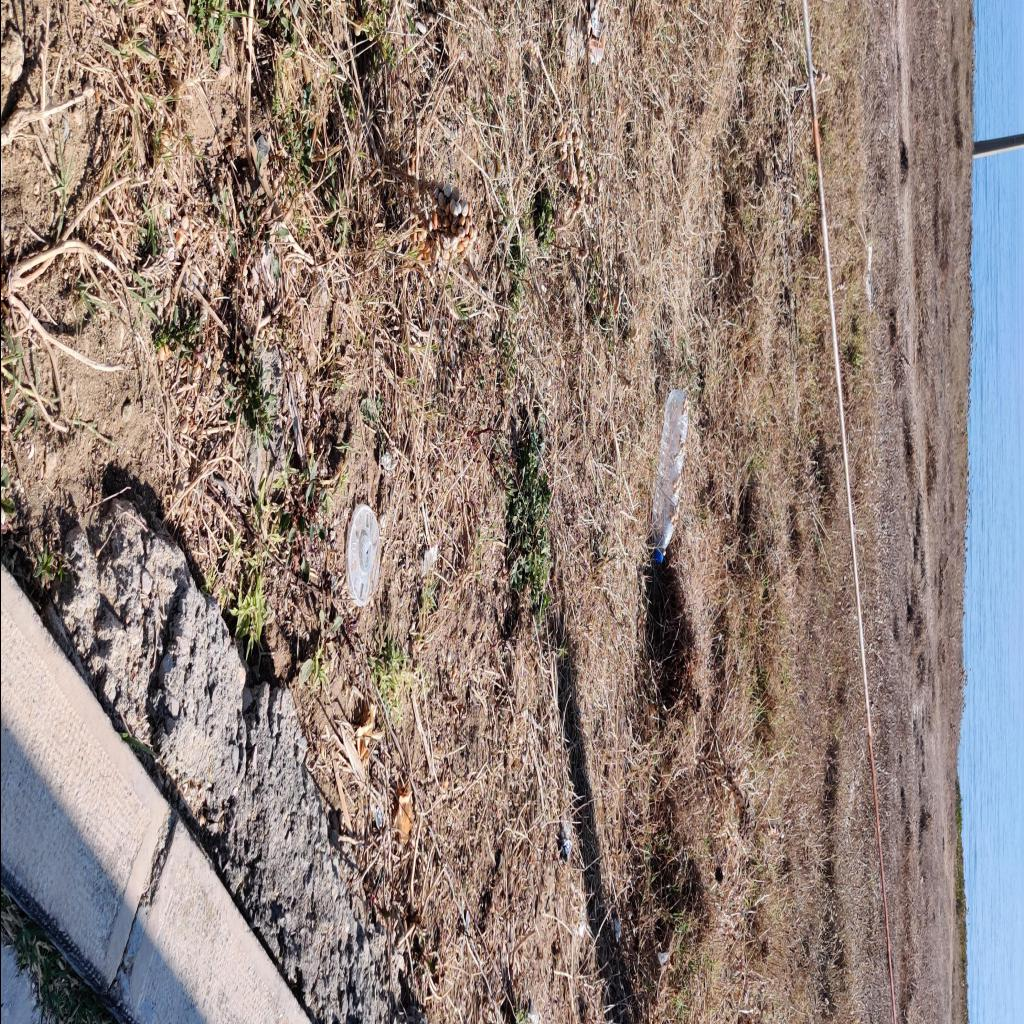Clear plastic bottle: (651, 388, 687, 562)
Plastic bottle cap: (654, 551, 662, 563)
Plastic film: (656, 953, 668, 965)
Plastic lid: (344, 504, 380, 608)
Unlabeled litter: (558, 826, 572, 866), (864, 246, 872, 307)
